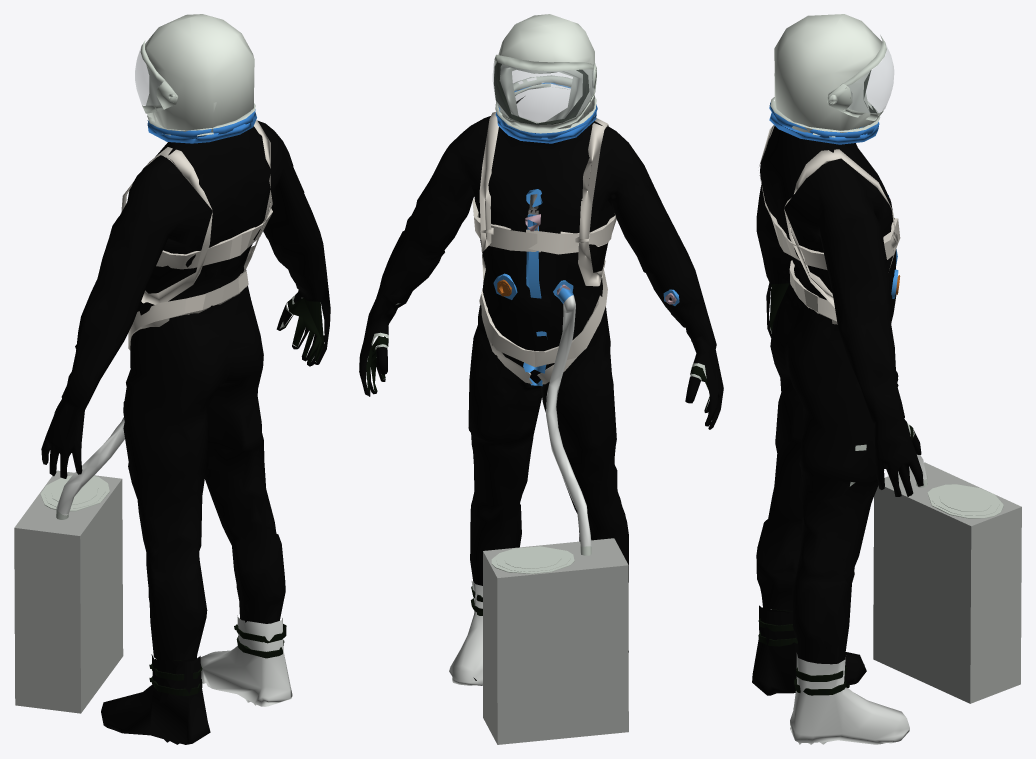
The model's file is space-gemini.glb.
3 renders of one model, left to right at view 1: azimuth 30°, elevation 25°; view 2: azimuth 150°, elevation 25°; view 3: azimuth 270°, elevation 25°, orthographic. The views are drawn at different scales.
Visible parts, largest first — view 1: GeminiSuit:polySurface1; view 2: GeminiSuit:polySurface1; view 3: GeminiSuit:polySurface1.
Part boxes in pixels (<box>): GeminiSuit:polySurface1: <box>14,14,330,744</box>; GeminiSuit:polySurface1: <box>359,14,723,744</box>; GeminiSuit:polySurface1: <box>752,14,1021,744</box>.
Bounding box in the file's own units: 0.9937 × 2 × 0.7065.
Materials: 6 (6 with a texture image).
